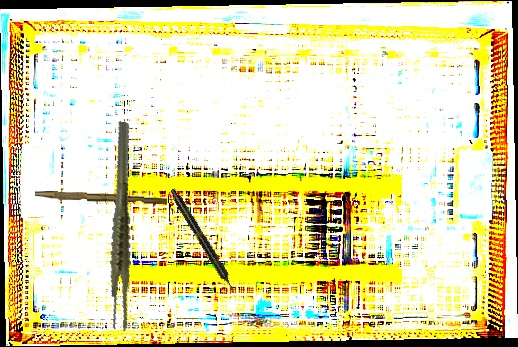Handpiece: (167, 186, 239, 296)
Scalpel Handle: (34, 190, 168, 206)
Tissue Forceps: (74, 120, 170, 332)
